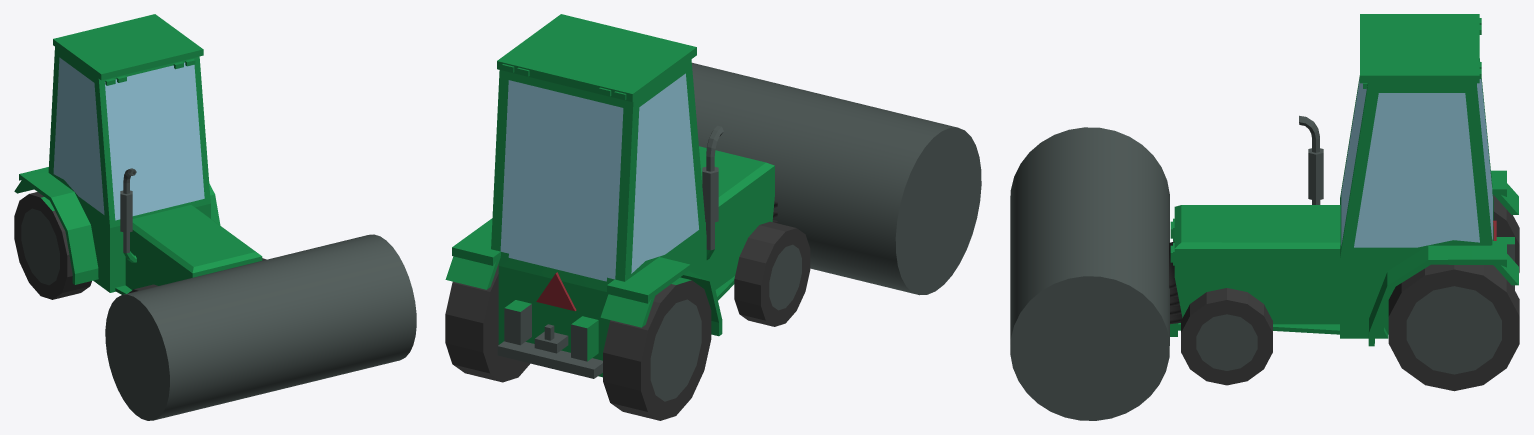
The model's file is SteamRoller.fbx.
3 views of the same model, side by side, from view 1: azimuth 30°, elevation 25°; view 2: azimuth 150°, elevation 25°; view 3: azimuth 270°, elevation 25° (orthographic). The views are drawn at different scales.
Parts seen in each view (by area): view 1: SteamRoller, Cylinder; view 2: SteamRoller, Cylinder; view 3: SteamRoller, Cylinder.
Boxes of the visible parts, <box> form: SteamRoller: <box>14,14,266,299</box>; Cylinder: <box>105,234,416,420</box>; SteamRoller: <box>445,14,810,420</box>; Cylinder: <box>692,62,981,295</box>; SteamRoller: <box>1169,14,1519,391</box>; Cylinder: <box>1010,127,1169,420</box>.
Size of the model in its own units: 570 by 540 by 825.
